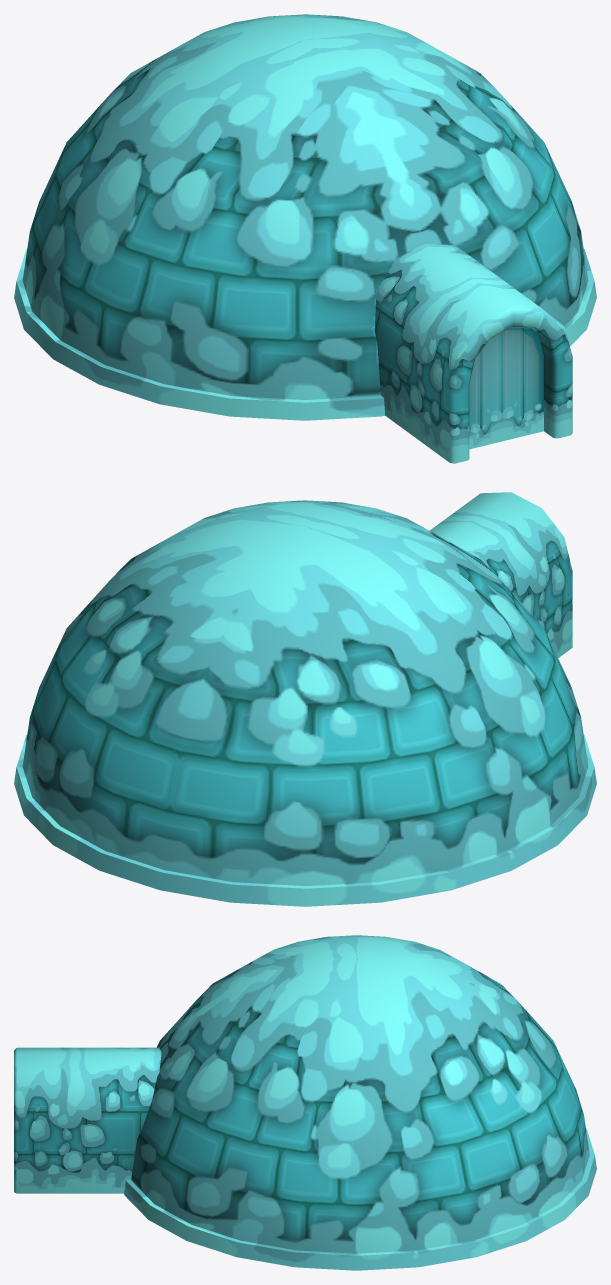
File: Igloo.FBX
The picture shows the model from 3 angles, top to bottom: view 1: azimuth 30°, elevation 25°; view 2: azimuth 150°, elevation 25°; view 3: azimuth 270°, elevation 25°; orthographic projection. The views are drawn at different scales.
Visible parts, largest first — view 1: Object497; view 2: Object497; view 3: Object497.
Boxes of the visible parts, x1=… form: Object497: x1=14, y1=14, x2=596, y2=463; Object497: x1=14, y1=492, x2=596, y2=906; Object497: x1=14, y1=935, x2=596, y2=1270.
Size of the model in its own units: 205 by 99.85 by 248.
